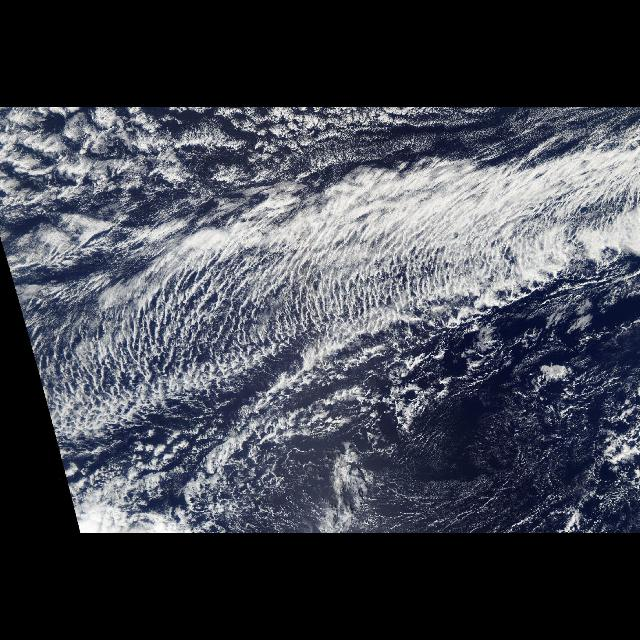Fish: (48, 140, 640, 430)
Sugar: (5, 109, 639, 533)
